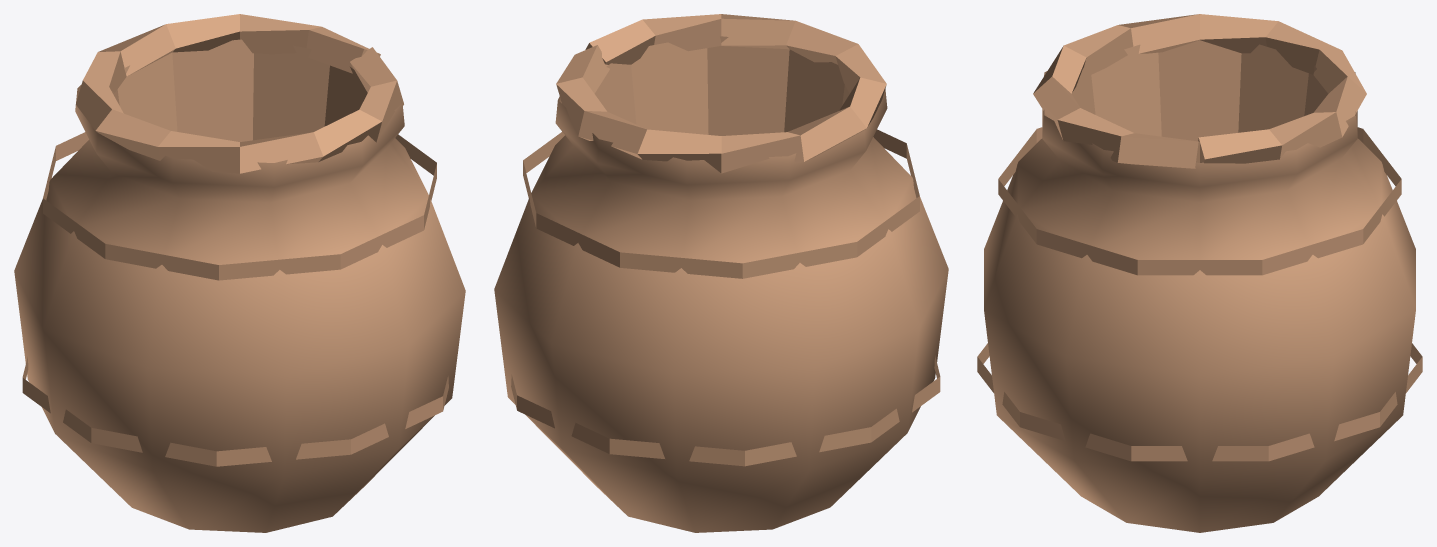
Rendered from item_088_honey_s.glb.
3 renders of one model, left to right at view 1: azimuth 30°, elevation 25°; view 2: azimuth 150°, elevation 25°; view 3: azimuth 270°, elevation 25°, orthographic.
Visible parts, largest first — view 1: item_088_honey_s; view 2: item_088_honey_s; view 3: item_088_honey_s.
Boxes of the visible parts, x1=… form: item_088_honey_s: x1=14, y1=14, x2=465, y2=532; item_088_honey_s: x1=494, y1=14, x2=948, y2=532; item_088_honey_s: x1=977, y1=14, x2=1422, y2=532.
Size of the model in its own units: 0.32 by 0.3136 by 0.3133.
